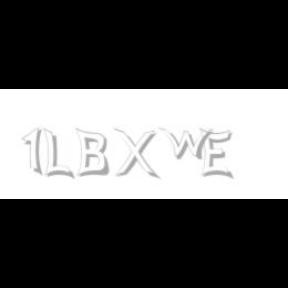1: (21, 128, 43, 176)
B: (75, 128, 109, 178)
E: (200, 128, 232, 180)
L: (44, 128, 72, 180)
X: (113, 128, 157, 180)
w: (158, 128, 218, 160)
